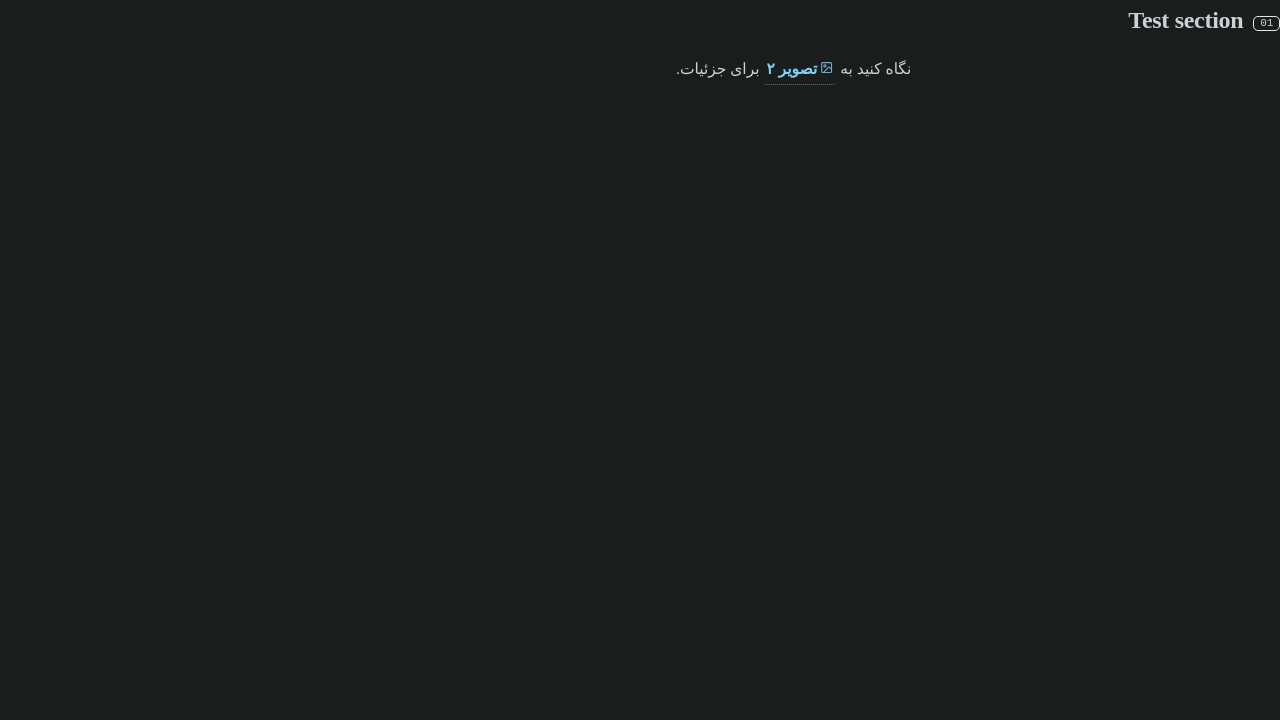
it: Media reader pipeline — Phase 2 registry resolution › matched asset whose storagePath is null still renders metadata (no broken image)
The image size is (1280, 720).
What coordinates should you click on to do the following:
click the button "تصویر ۲"
I would click on:
 (800, 70)
Its box is [763,54,836,85].
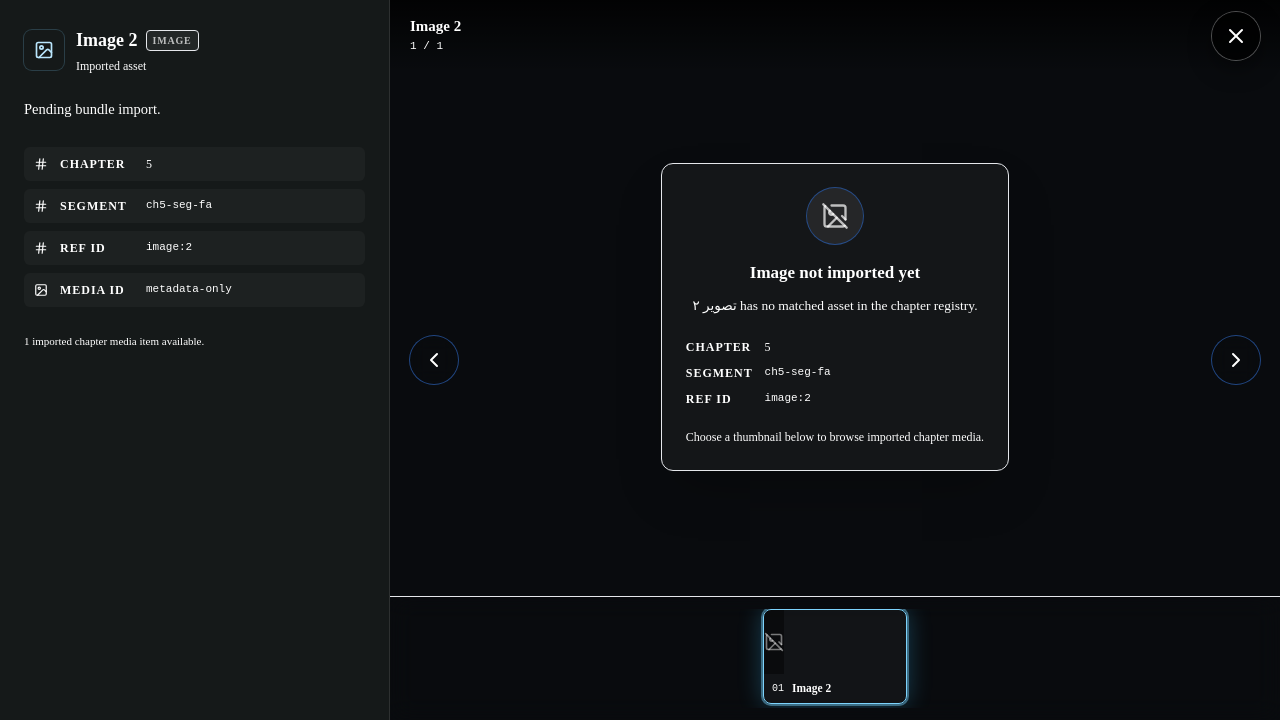
Check: the text with test id "media-caption" shows "Pending bundle import", box [24,101,160,117]
Check: the text "Imported asset" is shown, box [76,59,146,73]
Check: the text with test id "media-kind-badge" reads "Image", box [152,35,192,46]
